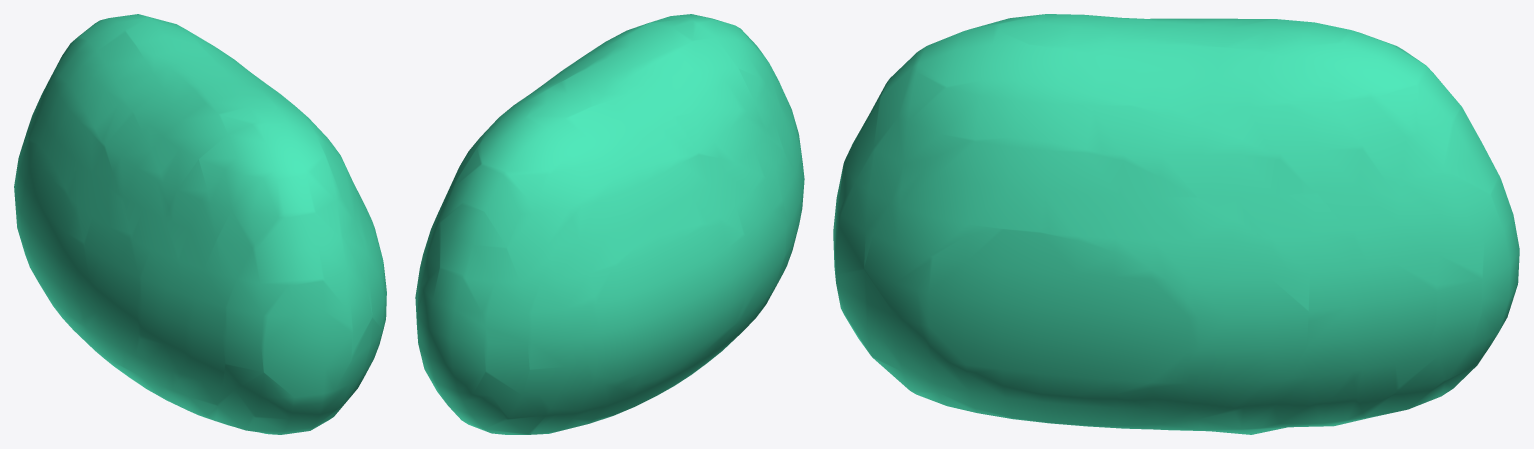
The picture shows the model from 3 angles, left to right: view 1: azimuth 30°, elevation 25°; view 2: azimuth 150°, elevation 25°; view 3: azimuth 270°, elevation 25°; orthographic projection. The views are drawn at different scales.
Visible parts, largest first — view 1: Liquid_Domain; view 2: Liquid_Domain; view 3: Liquid_Domain.
Part boxes in pixels (x1=…): Liquid_Domain: x1=14, y1=14, x2=386, y2=434; Liquid_Domain: x1=415, y1=14, x2=804, y2=434; Liquid_Domain: x1=833, y1=14, x2=1519, y2=434.
Size of the model in its own units: 1.34 by 1.52 by 2.5.
